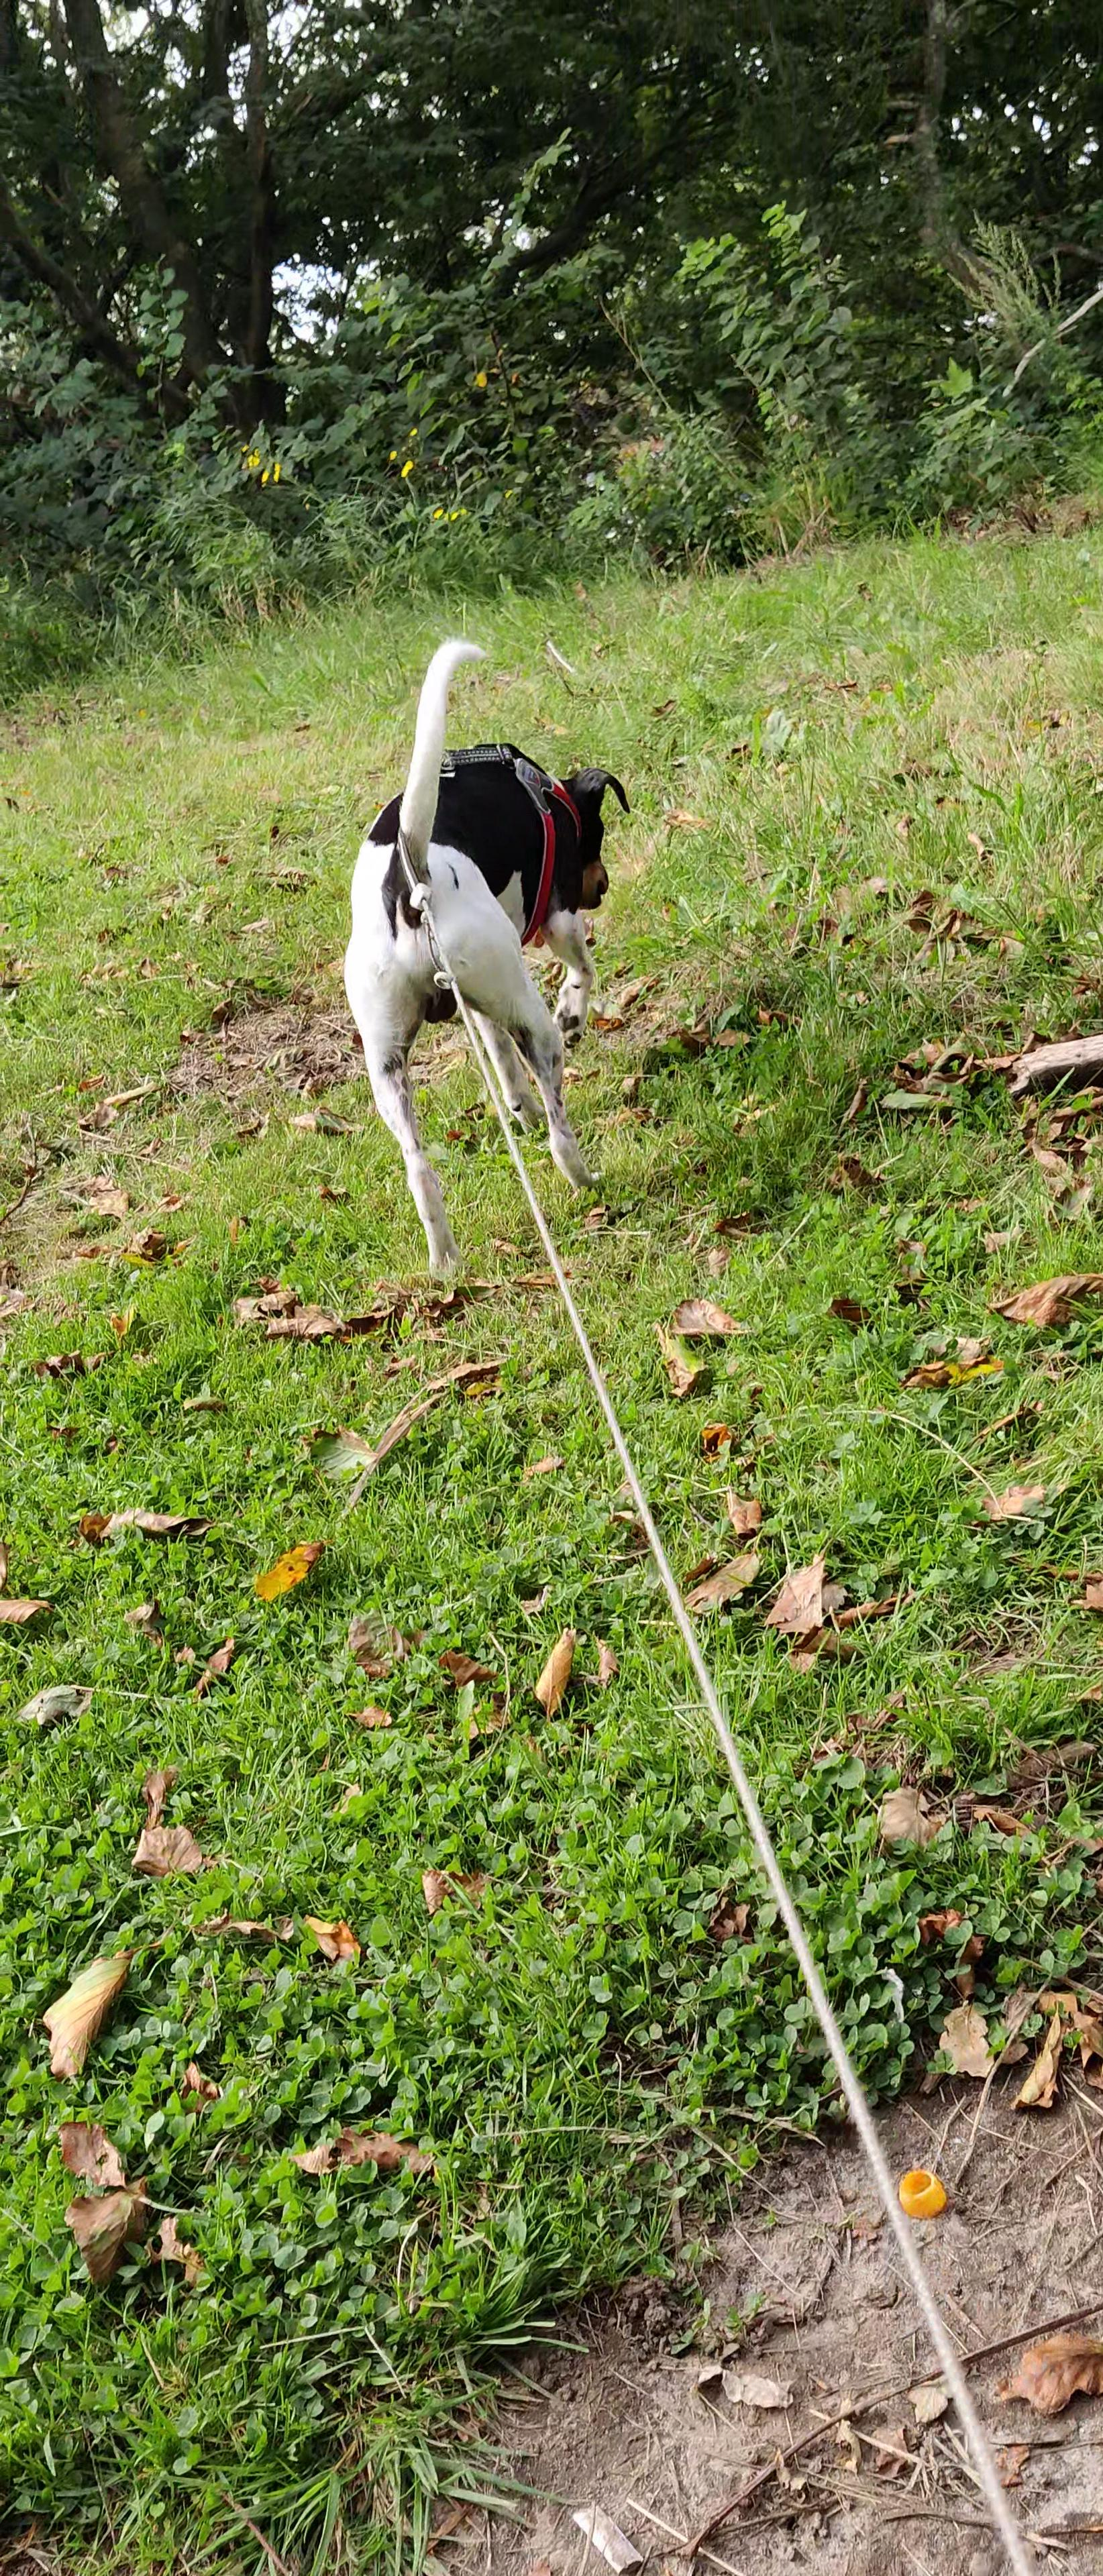Dog: (332, 626, 638, 1285)
